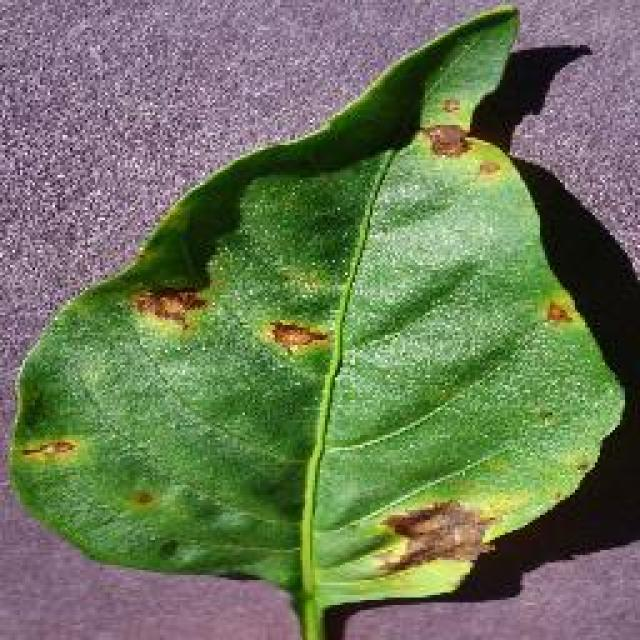Chilli_Bacterial_Spot: (2, 2, 630, 638), (370, 495, 498, 583), (415, 92, 510, 188), (128, 282, 210, 330), (262, 315, 332, 355), (272, 260, 328, 300), (422, 120, 472, 160), (18, 435, 80, 465), (120, 483, 160, 515), (540, 295, 575, 327), (470, 155, 505, 183), (435, 92, 463, 118)
